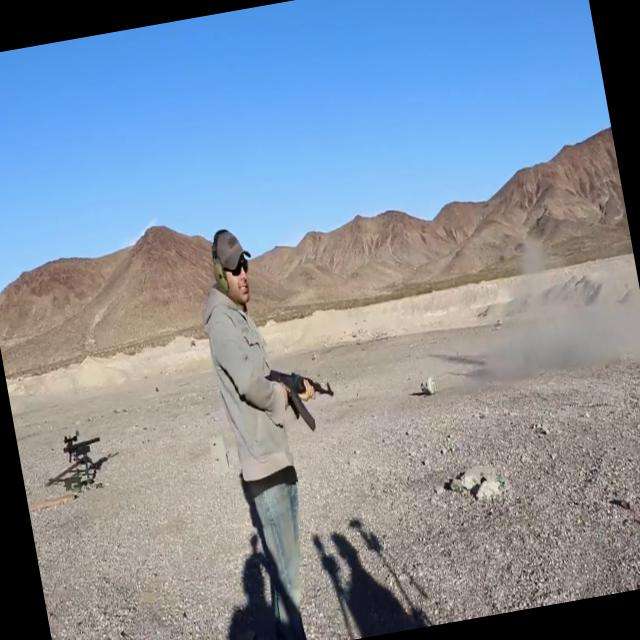long weapon: (254, 354, 358, 433), (44, 403, 119, 496)
